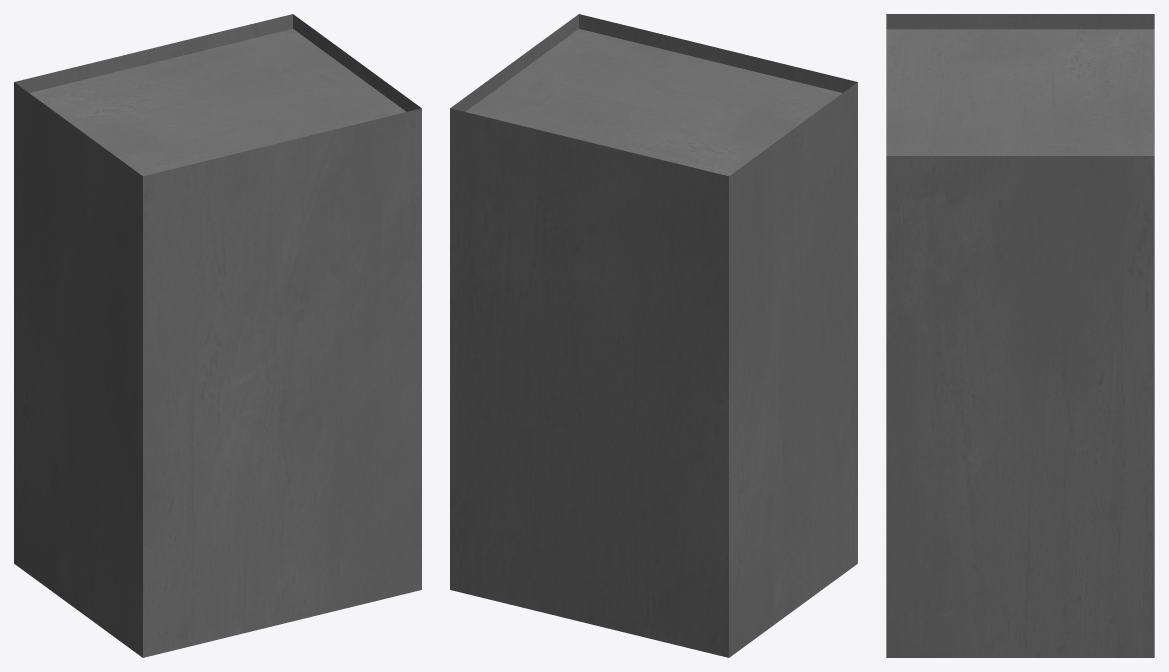
Rendered from container.glb.
3 renders of one model, left to right at view 1: azimuth 30°, elevation 25°; view 2: azimuth 150°, elevation 25°; view 3: azimuth 270°, elevation 25°, orthographic. The views are drawn at different scales.
Visible parts, largest first — view 1: container, lid; view 2: container, lid; view 3: container, lid.
Part boxes in pixels (x1,y1,x2,y2): container: [14, 14, 421, 657]; lid: [29, 29, 406, 176]; container: [450, 14, 857, 657]; lid: [465, 29, 842, 176]; container: [886, 14, 1154, 657]; lid: [886, 29, 1154, 155].
Size of the model in its own units: 0.5 by 0.825 by 0.4.
1 material, 1 textured.
